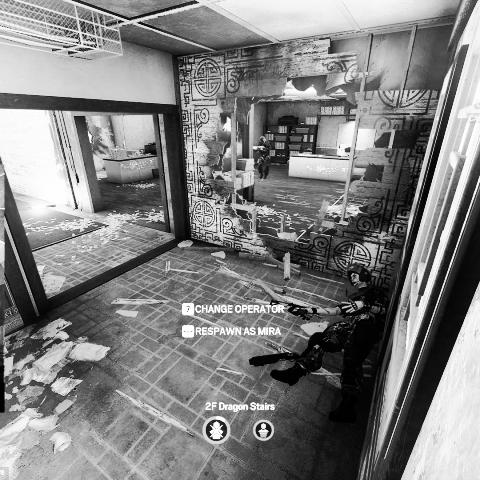Character: (269, 260, 392, 427), (252, 135, 272, 181)
Head: (347, 263, 371, 289), (259, 136, 266, 144)
